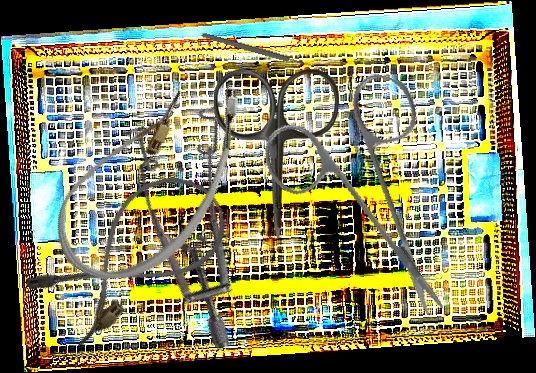Cannula: (36, 42, 269, 311), (19, 155, 243, 355)
Iris Scissors: (233, 49, 503, 318), (214, 69, 339, 239)
Speculum: (71, 76, 338, 353)
Surgical Spoon: (200, 31, 328, 74)
